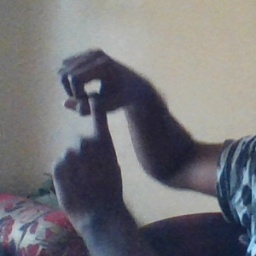Q: (46, 46, 141, 199)
